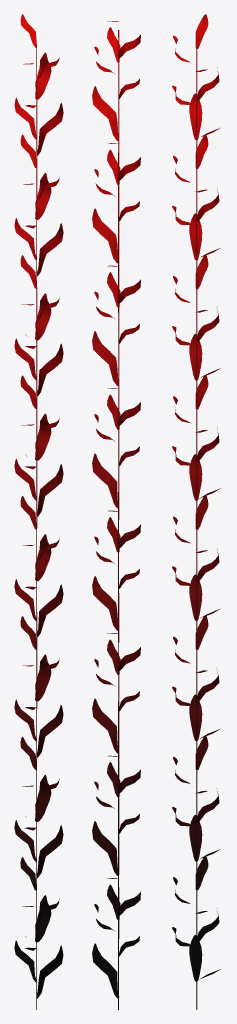
The picture shows the model from 3 angles, left to right: view 1: azimuth 30°, elevation 25°; view 2: azimuth 150°, elevation 25°; view 3: azimuth 330°, elevation 25°; orthographic projection.
Parts seen in each view (by area): view 1: KELP_HP_002; view 2: KELP_HP_002; view 3: KELP_HP_002.
Part boxes in pixels (bbox=[...]): KELP_HP_002: bbox=[14, 14, 63, 1009]; KELP_HP_002: bbox=[92, 21, 140, 1009]; KELP_HP_002: bbox=[172, 14, 220, 1009].
Size of the model in its own units: 0.7929 by 16.59 by 0.6112.
